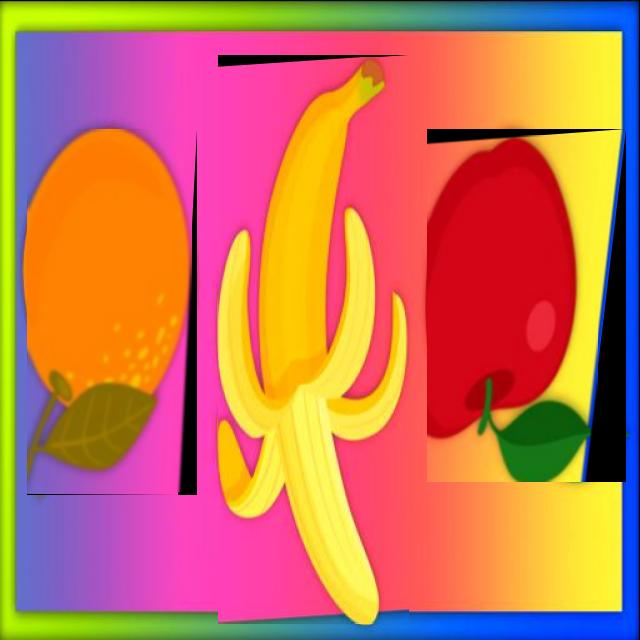2: (28, 129, 191, 490)
Apple: (428, 136, 598, 482)
Banana: (218, 57, 408, 623)
